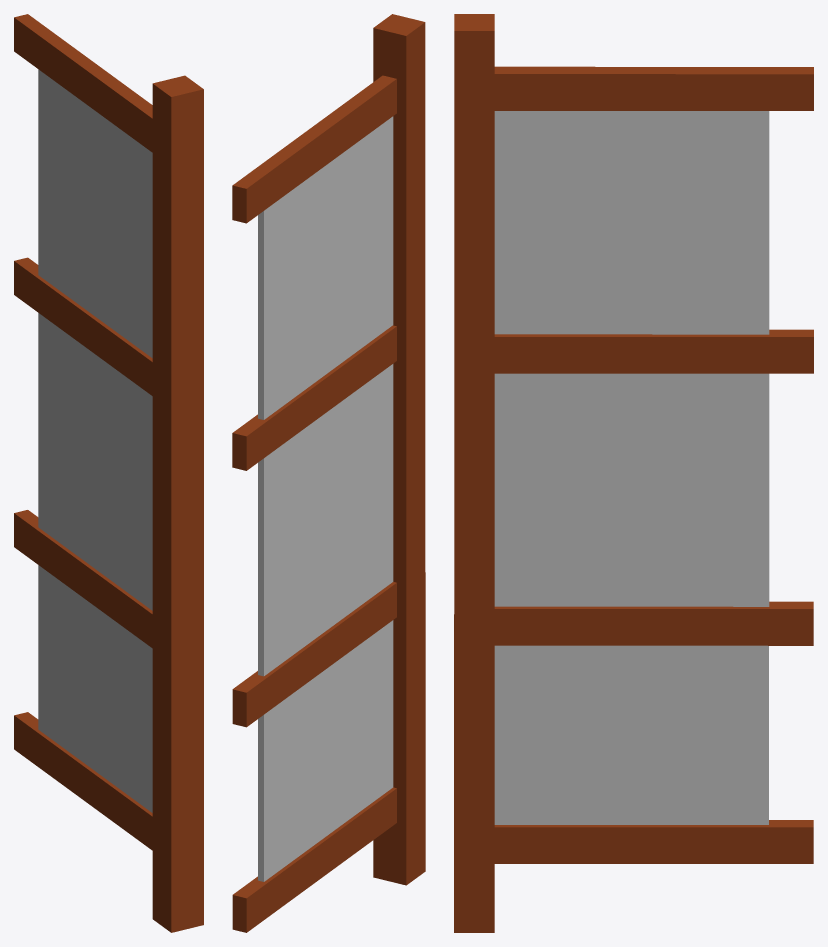
File: SM_Mill_Wing_level1.fbx
3 views of the same model, side by side, from view 1: azimuth 30°, elevation 25°; view 2: azimuth 150°, elevation 25°; view 3: azimuth 270°, elevation 25° (orthographic). The views are drawn at different scales.
Parts seen in each view (by area): view 1: Cube.190, Cube.189, Cube.196, Cube.195, Cube.194, Cube.193, Cube.191, Cube.192; view 2: Cube.190, Cube.189, Cube.196, Cube.195, Cube.194, Cube.193, Cube.191, Cube.192; view 3: Cube.189, Cube.196, Cube.195, Cube.190, Cube.194, Cube.193, Cube.192, Cube.191.
Boxes of the visible parts, x1,y1,x2,y2 form: Cube.190: (152,75,203,932); Cube.189: (38,313,152,610); Cube.196: (38,69,152,357); Cube.195: (38,565,152,812); Cube.194: (14,14,152,152); Cube.193: (14,257,152,395); Cube.191: (14,712,152,850); Cube.192: (14,510,152,648); Cube.190: (373,14,425,885); Cube.189: (258,364,393,676); Cube.196: (258,116,393,419); Cube.195: (258,620,393,881); Cube.194: (232,75,396,223); Cube.193: (232,325,396,470); Cube.191: (232,787,396,932); Cube.192: (232,582,396,727); Cube.189: (494,373,769,606); Cube.196: (494,111,769,334); Cube.195: (494,645,768,824); Cube.190: (454,14,494,932); Cube.194: (494,66,813,110); Cube.193: (494,329,813,373); Cube.192: (494,601,813,645); Cube.191: (494,820,813,863).
Size of the model in its own units: 54.55 by 1339 by 484.
